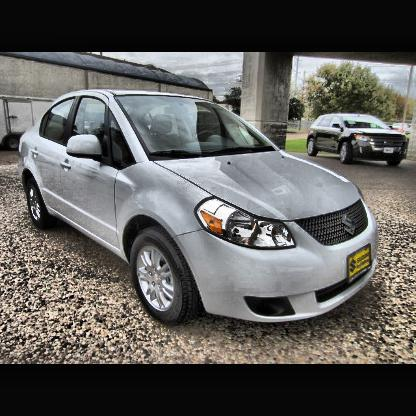Suzuki SX4 Sedan 2012: (18, 85, 385, 333)
